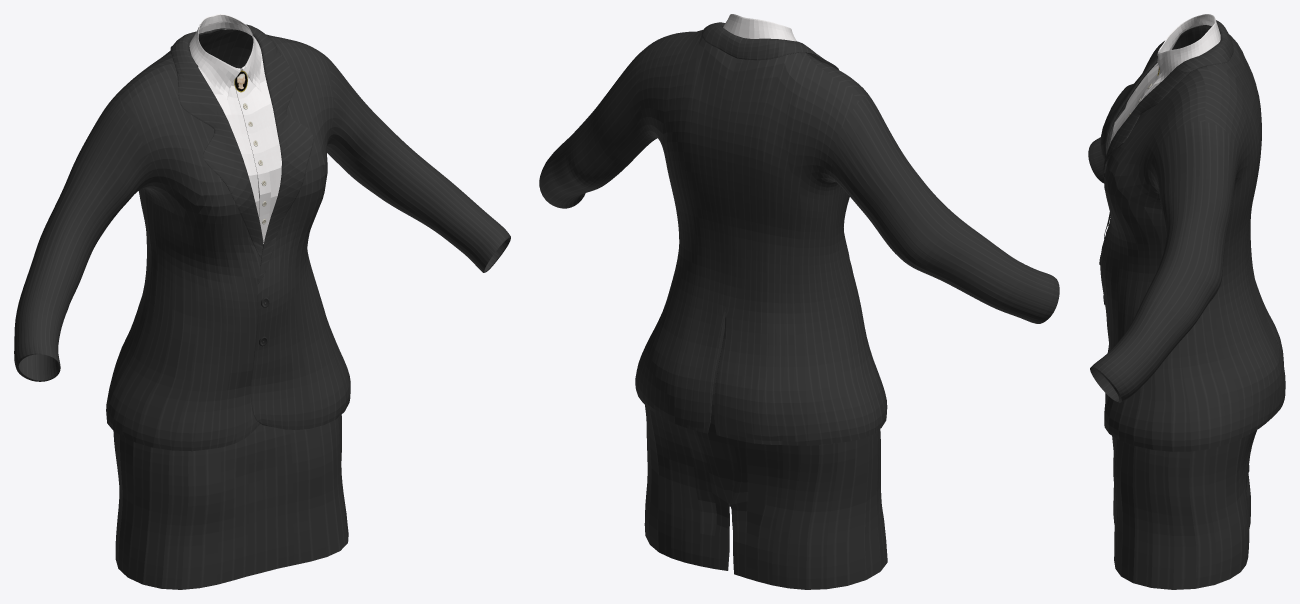
Rendered from garment.glb.
3 views of the same model, side by side, from view 1: azimuth 30°, elevation 25°; view 2: azimuth 150°, elevation 25°; view 3: azimuth 270°, elevation 25° (orthographic). The views are drawn at different scales.
Parts seen in each view (by area): view 1: garment; view 2: garment; view 3: garment.
Part boxes in pixels (box(x1,y1,x2,y2)): garment: box(14, 14, 510, 589); garment: box(539, 14, 1059, 589); garment: box(1088, 14, 1285, 589).
Bounding box in the file's own units: 9.19 × 9.27 × 3.2.
1 material, 1 textured.
